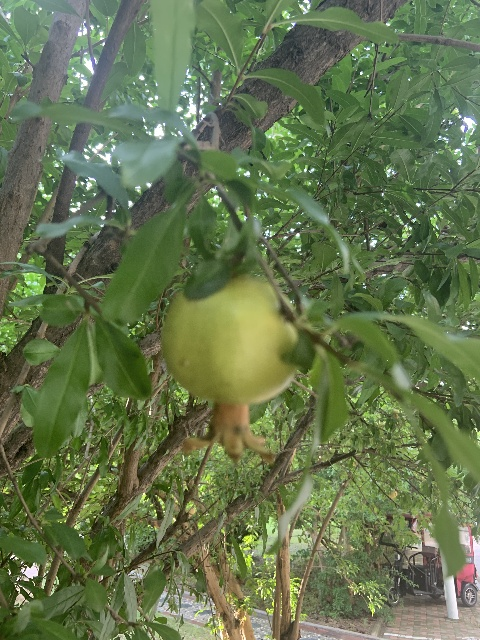mid-growth: (161, 273, 301, 463)
